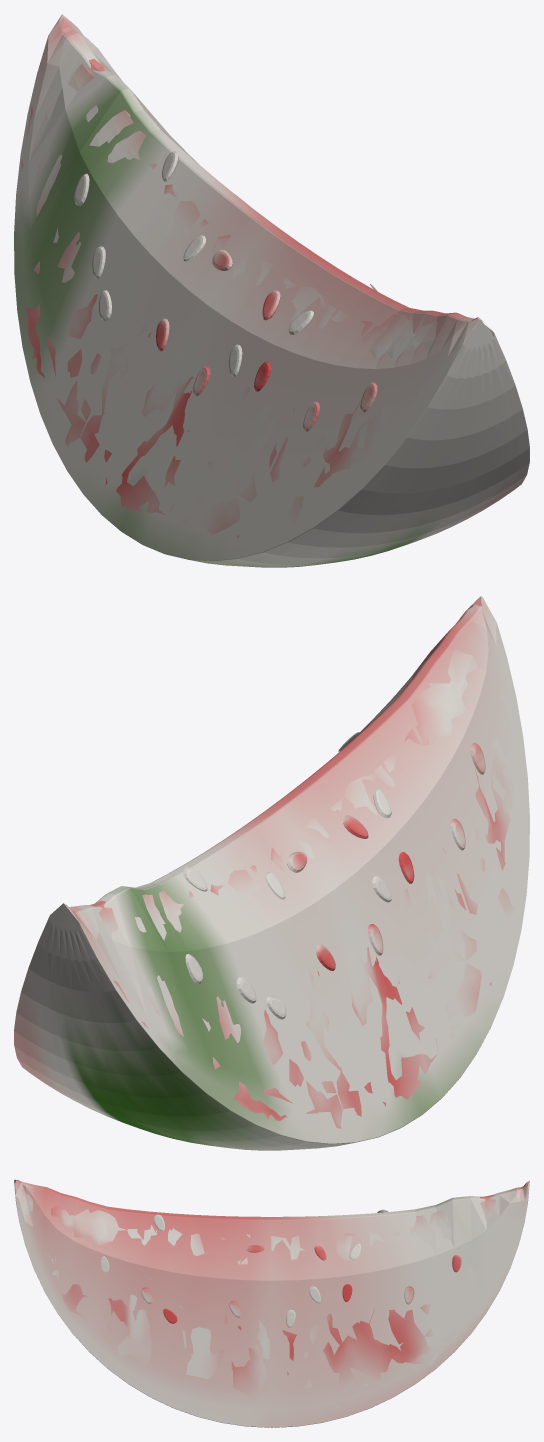
Rendered from tripiecemelon.dae.
3 renders of one model, top to bottom at view 1: azimuth 30°, elevation 25°; view 2: azimuth 150°, elevation 25°; view 3: azimuth 270°, elevation 25°, orthographic. The views are drawn at different scales.
Parts seen in each view (by area): view 1: node; view 2: node; view 3: node.
Part boxes in pixels (x1,y1,x2,y2): node: (14,14,529,567); node: (14,596,529,1150); node: (14,1179,529,1427).
Size of the model in its own units: 5.9 by 6.77 by 14.11.
